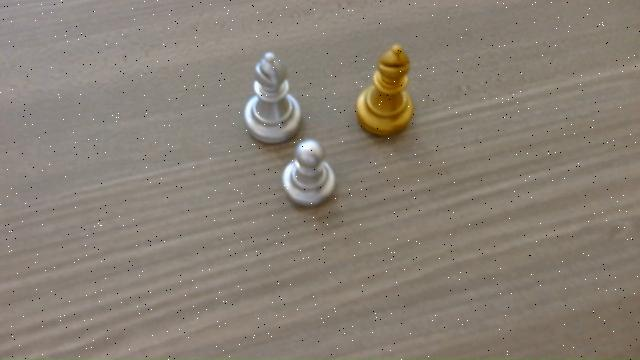black_bishop: (353, 38, 419, 138)
white_bishop: (242, 51, 302, 143)
white_pawn: (280, 139, 335, 207)
